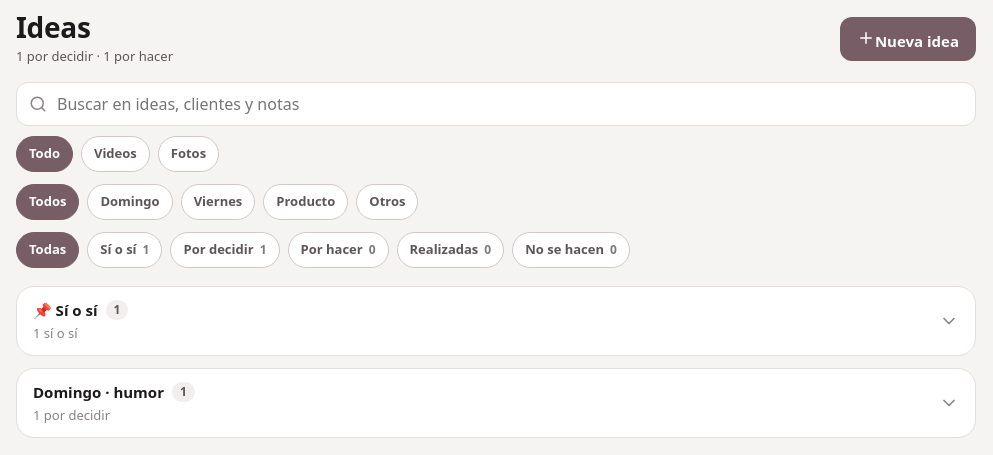
Test: IdeasPage › filtro por formato deja solo el grupo que corresponde
Expected: the button "Domingo · humor 1 1 por decidir" is shown, [17,369,975,437]
Click the button "Fotos": (188, 154) [158,136,219,172]
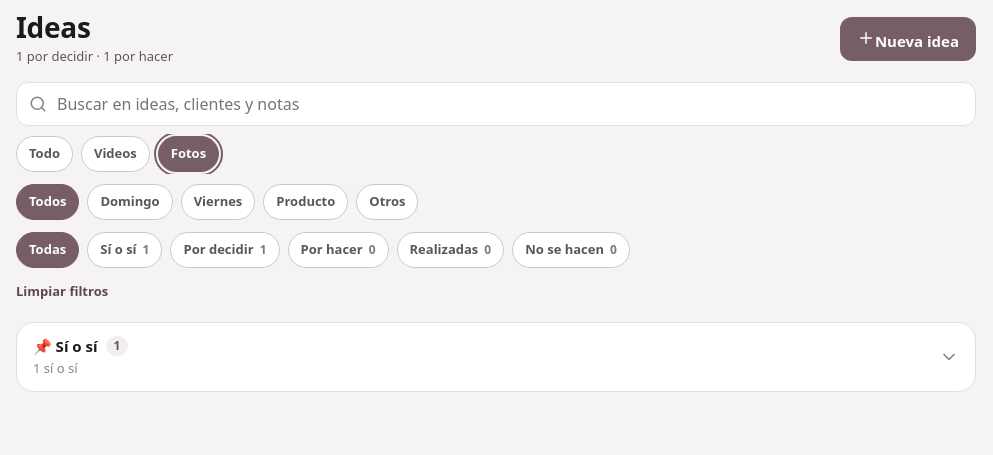
Expected: the button "📌 Sí o sí 1 1 sí o sí" is shown, [17,323,975,391]
Now the button "Domingo · humor" is gone
